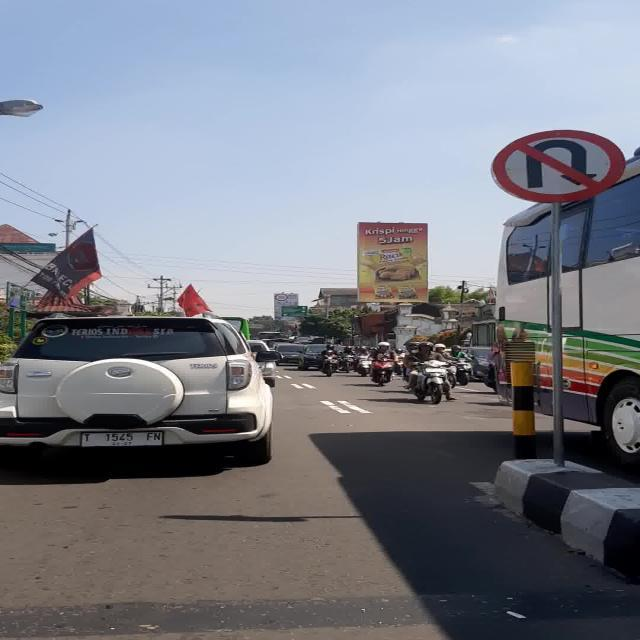Dilarang Putar Balik: (490, 130, 627, 202)
